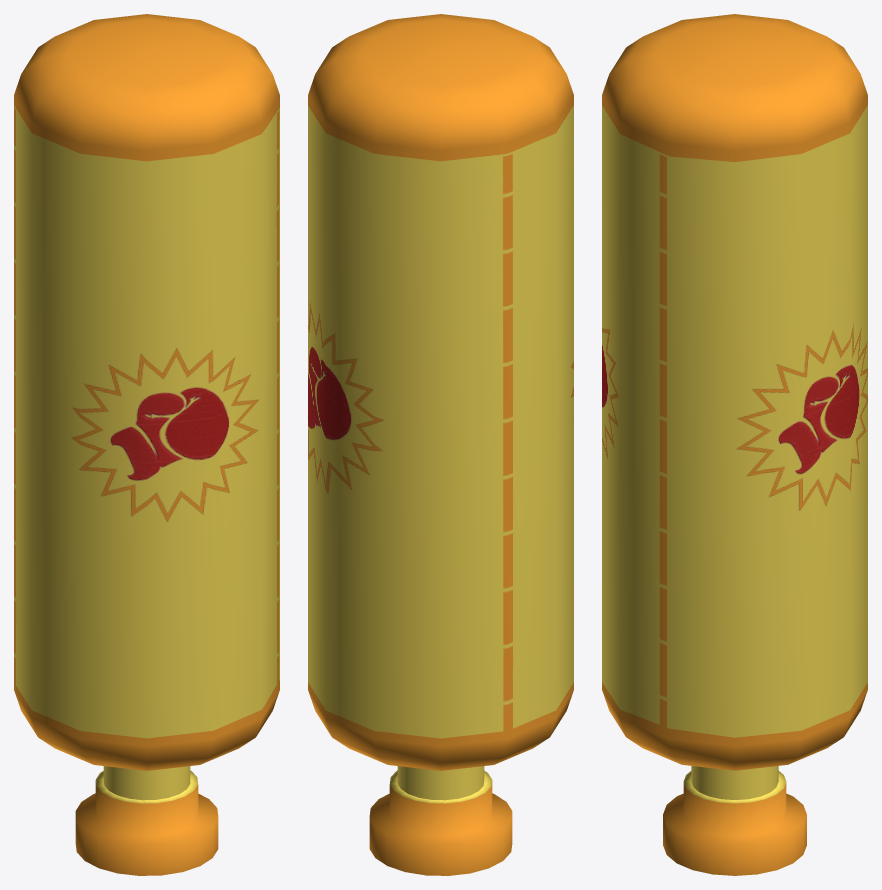
Rendered from MEC0110019.fbx.
The picture shows the model from 3 angles, left to right: view 1: azimuth 30°, elevation 25°; view 2: azimuth 150°, elevation 25°; view 3: azimuth 270°, elevation 25°; orthographic projection.
Visible parts, largest first — view 1: smMEC0110019; view 2: smMEC0110019; view 3: smMEC0110019.
Part boxes in pixels (x1,y1,x2,y2): smMEC0110019: (14, 14, 279, 875); smMEC0110019: (308, 14, 573, 875); smMEC0110019: (602, 14, 867, 875).
Bounding box in the file's own units: 88.86 × 296 × 88.86.
Materials: 1 (1 with a texture image).
